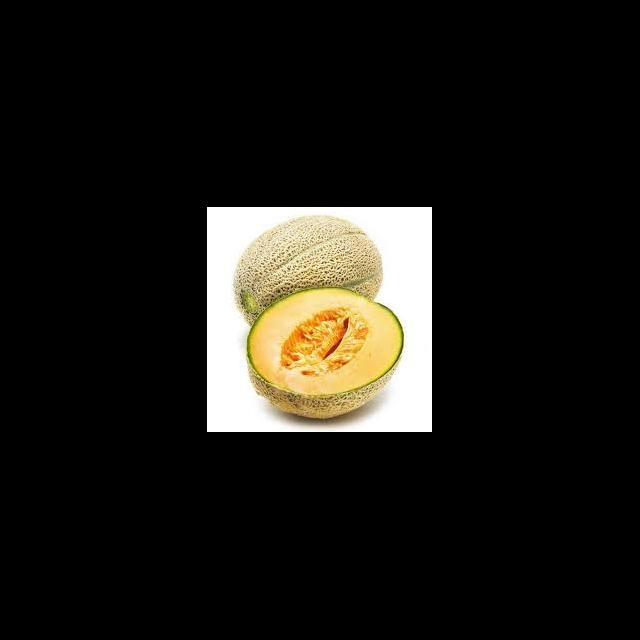Hami Melon: (246, 288, 405, 419), (234, 216, 383, 301)
